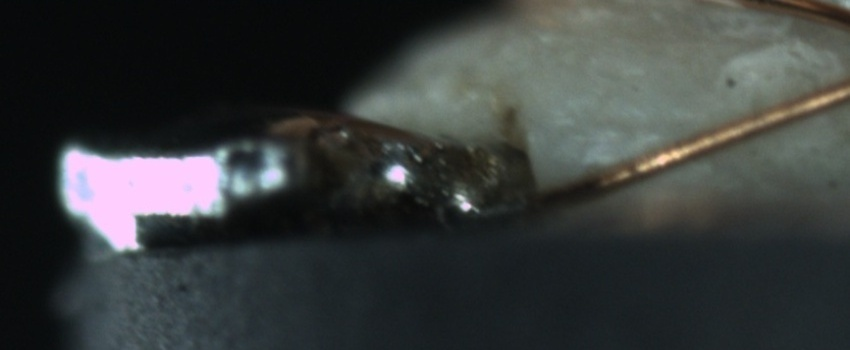DL: (577, 96, 713, 156)
